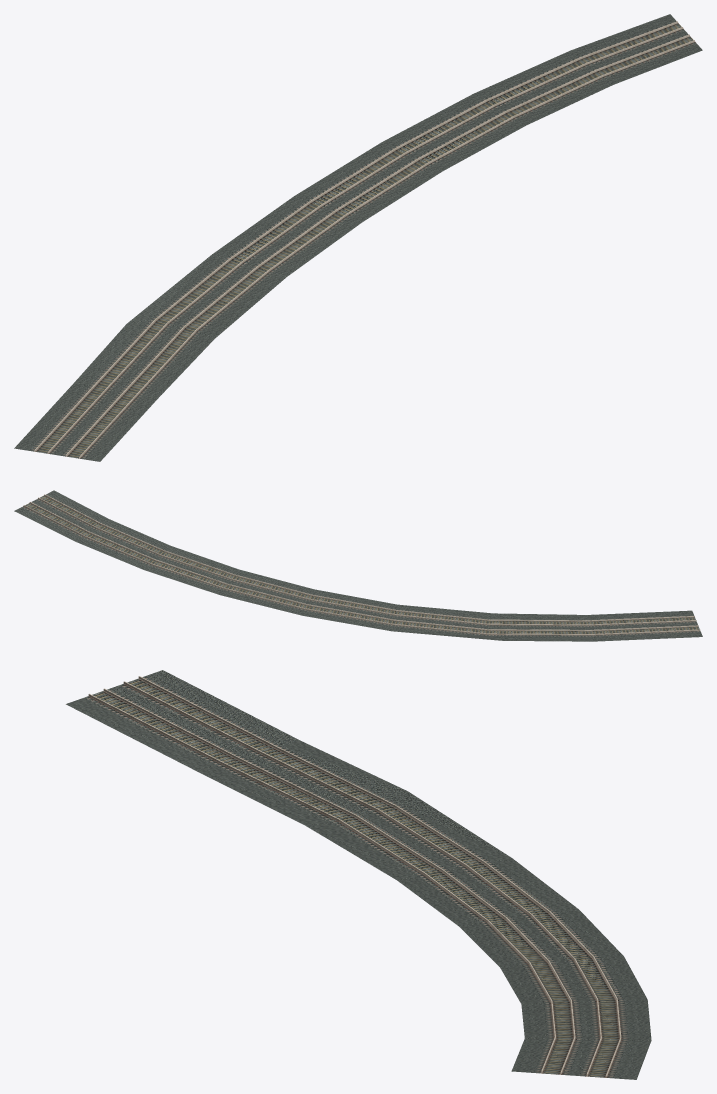
File: cuntwrail01.obj
3 renders of one model, top to bottom at view 1: azimuth 30°, elevation 25°; view 2: azimuth 150°, elevation 25°; view 3: azimuth 270°, elevation 25°, orthographic. The views are drawn at different scales.
Parts seen in each view (by area): view 1: cuntwrail01; view 2: cuntwrail01; view 3: cuntwrail01.
Boxes of the visible parts, box(x1,y1,x2,y2) form: cuntwrail01: box(14, 14, 702, 461); cuntwrail01: box(14, 490, 702, 641); cuntwrail01: box(66, 670, 651, 1079).
Bounding box in the file's own units: 115 × 14.33 × 51.14.
